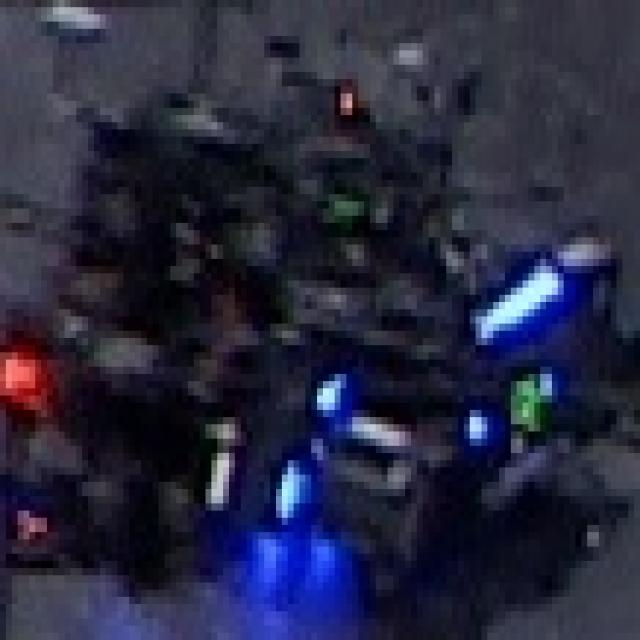B1: (161, 396, 320, 540)
